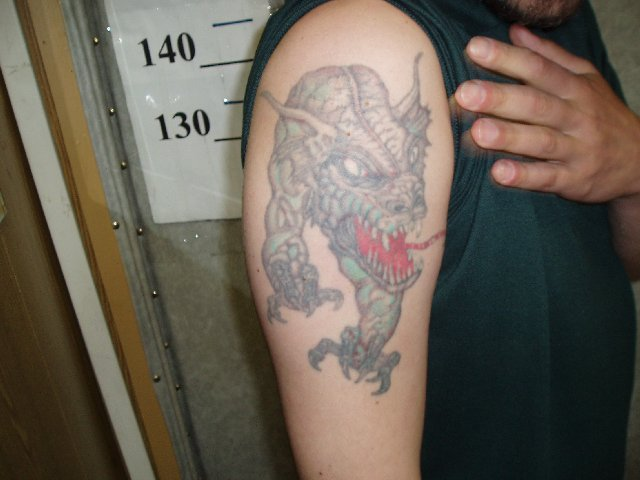tatu6_drakon: (244, 54, 461, 409)
